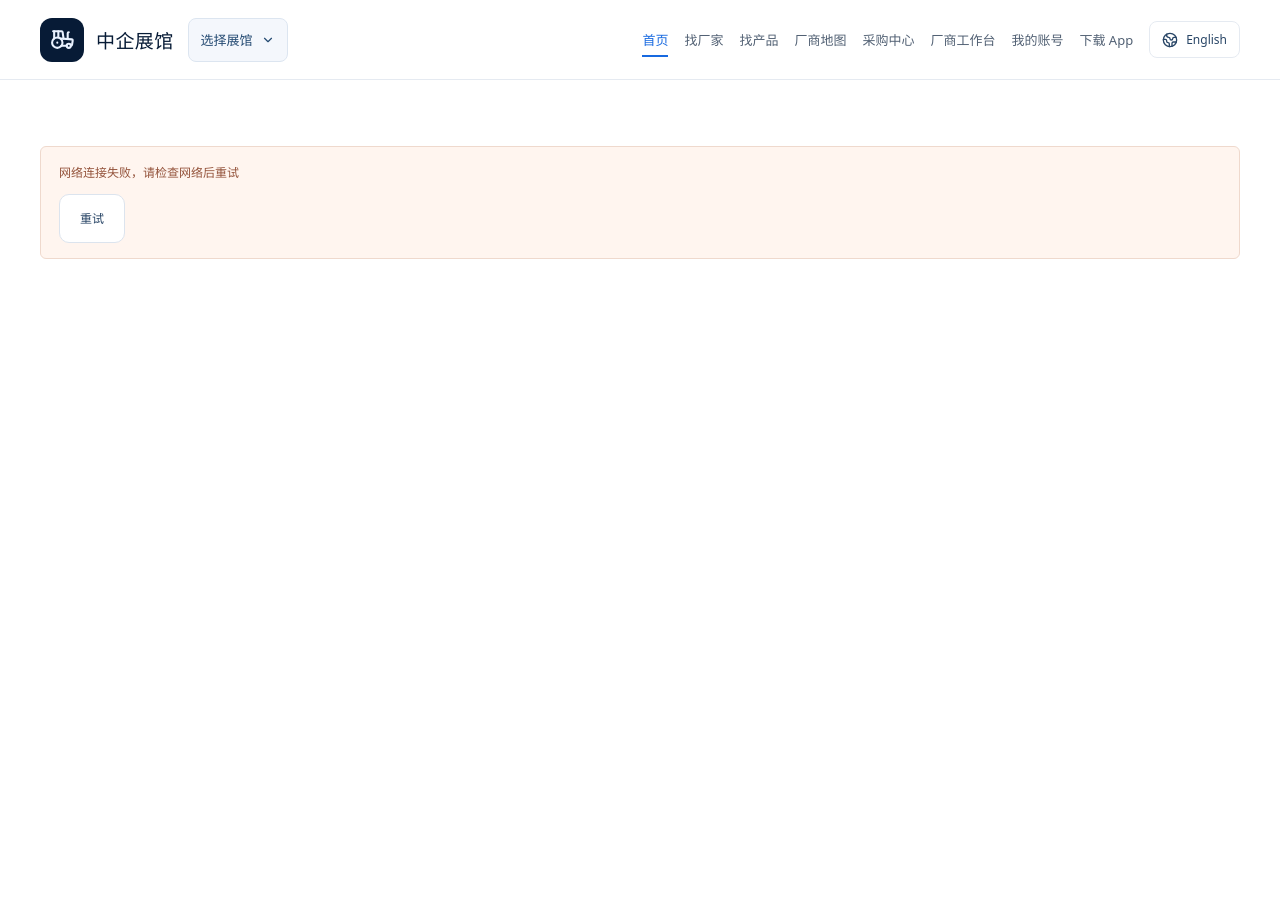
it: opens personal requests from the merged entry for a signed-in business account
The image size is (1280, 900).
Click the link "采购中心": (888, 40) [862,31,914,49]
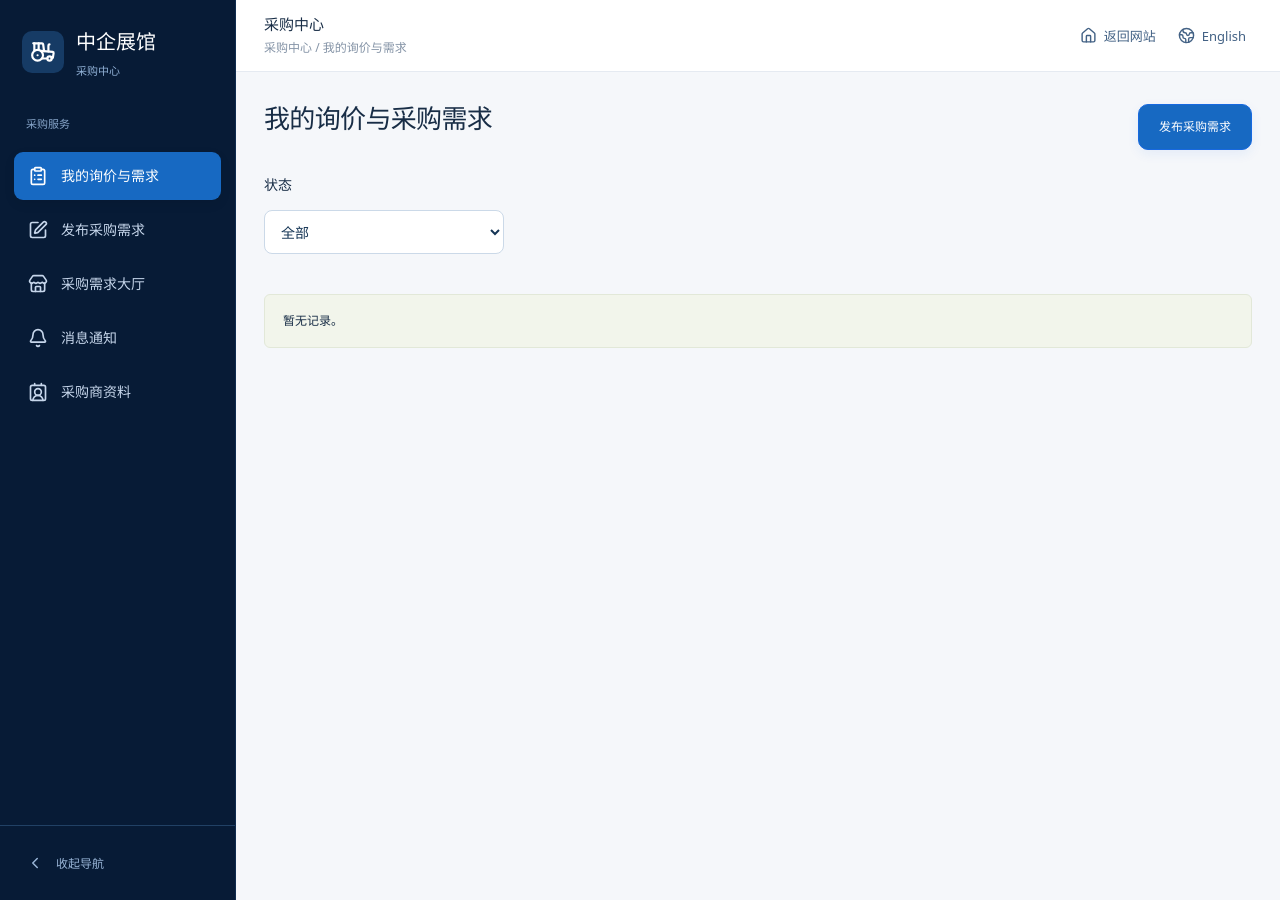
expect the heading "我的询价与采购需求" is shown: met, box [264,100,492,136]
